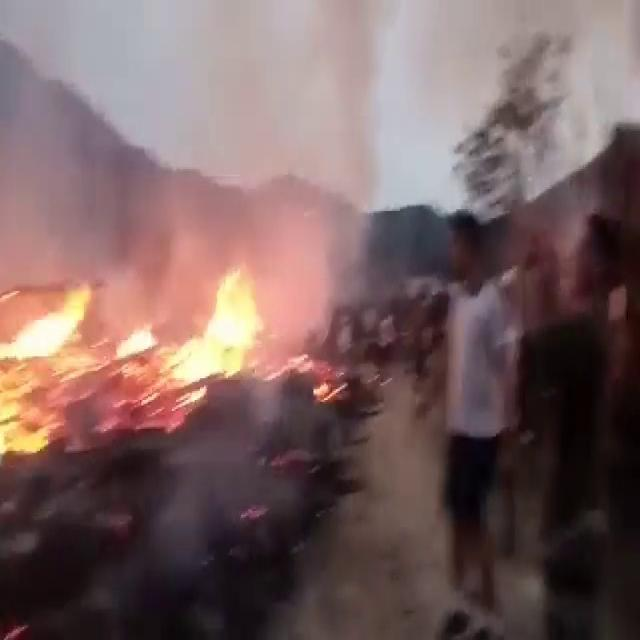Fire: (0, 267, 266, 455), (0, 282, 94, 364)
